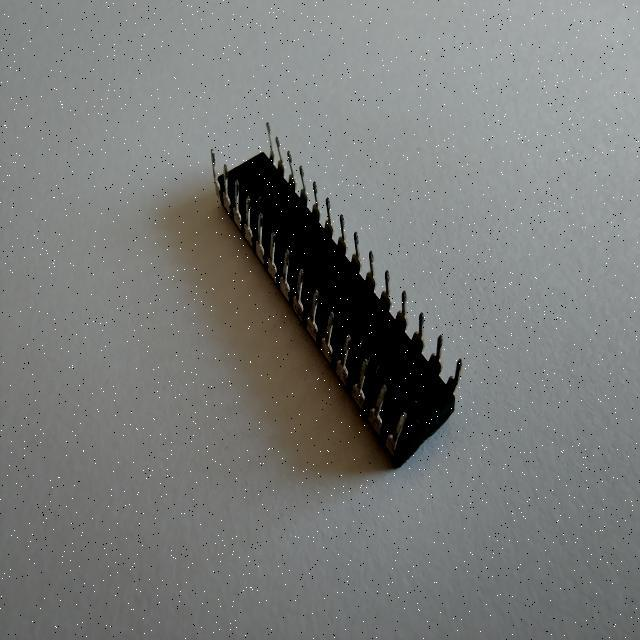atmega: (207, 120, 465, 470)
